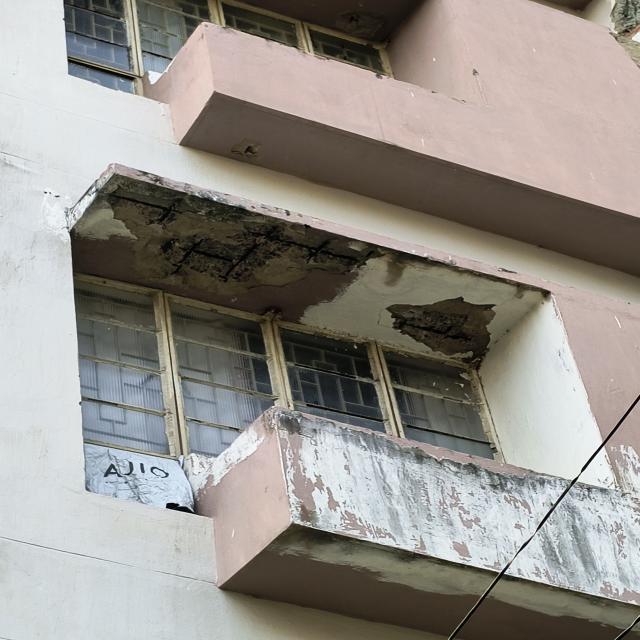peeling: (265, 410, 569, 571), (506, 480, 640, 605)
spalling: (103, 178, 390, 320), (386, 297, 495, 363)
stain_mould: (278, 414, 640, 508)
